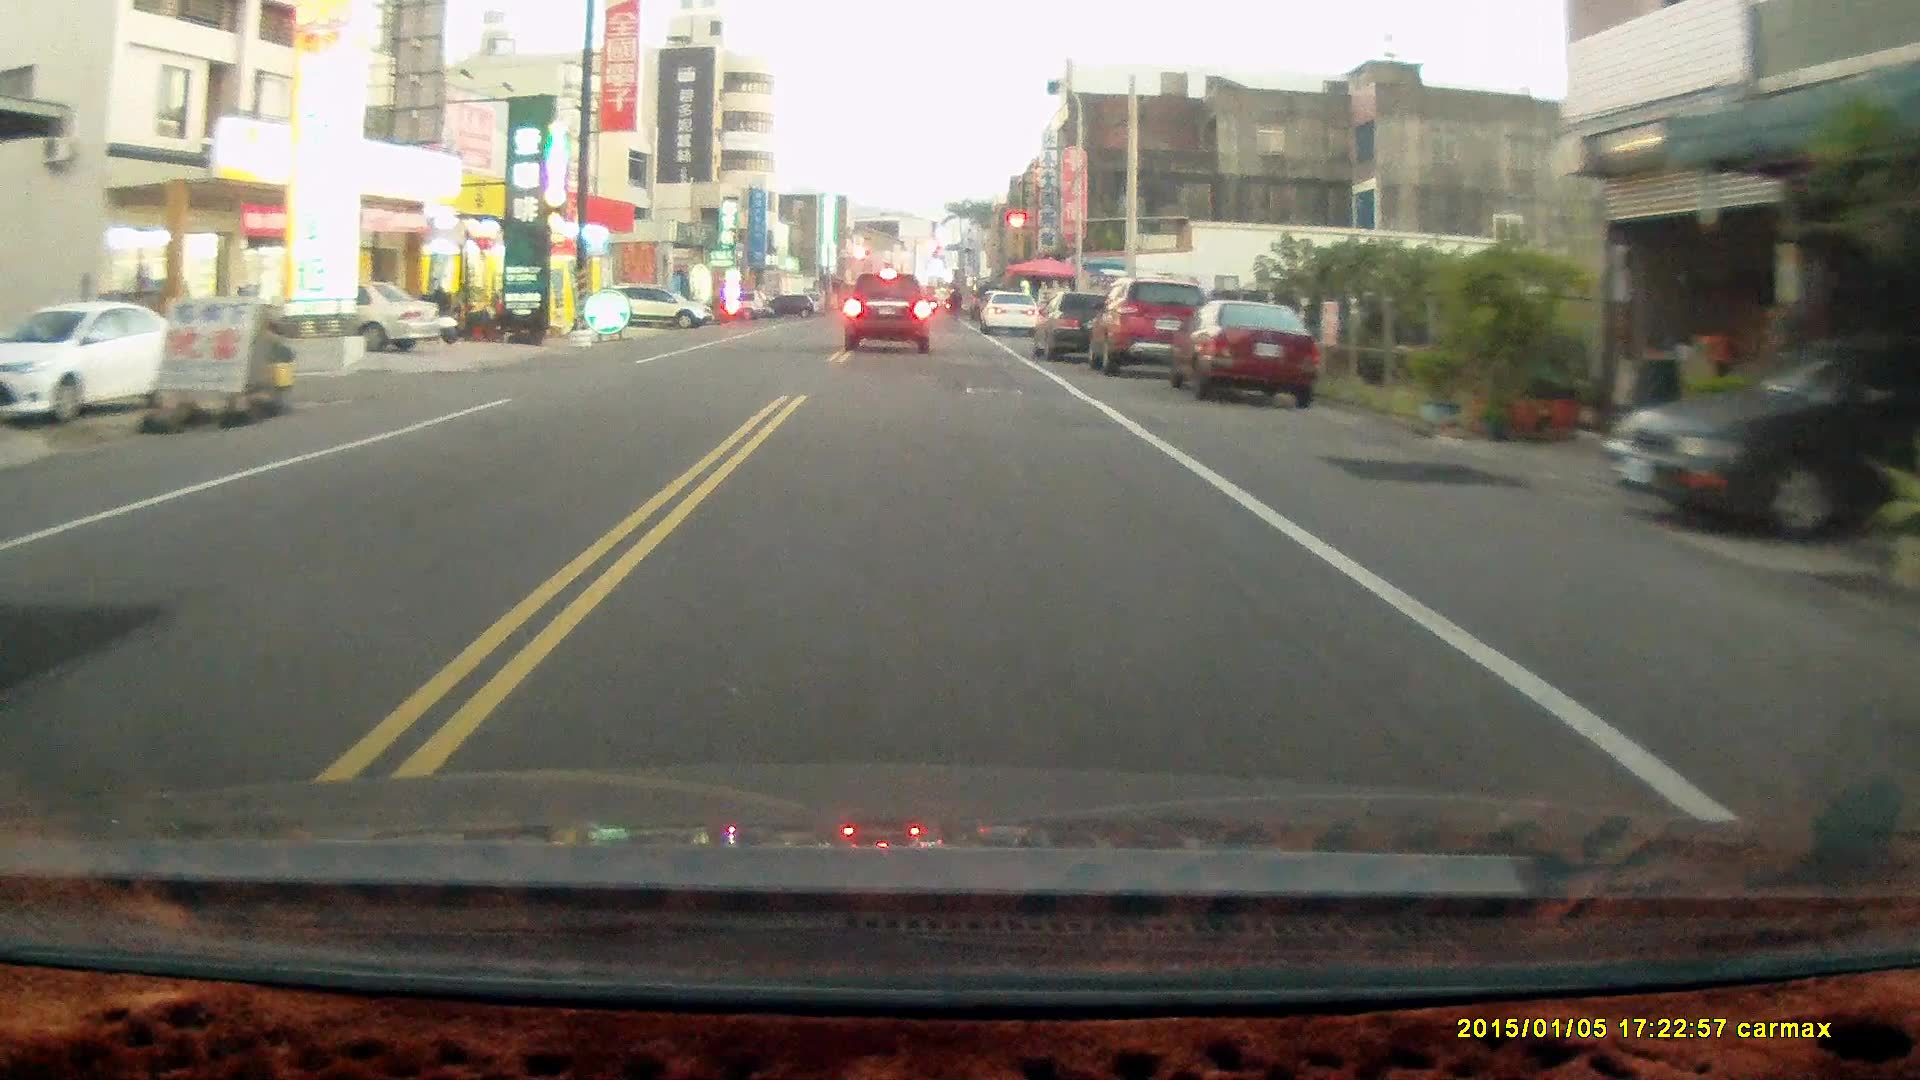vehicle: (1604, 338, 1919, 542), (5, 299, 208, 422), (1164, 299, 1325, 409), (266, 277, 446, 353), (1091, 277, 1212, 377), (1034, 290, 1143, 363), (844, 274, 934, 356), (611, 282, 708, 332), (981, 289, 1044, 338)
